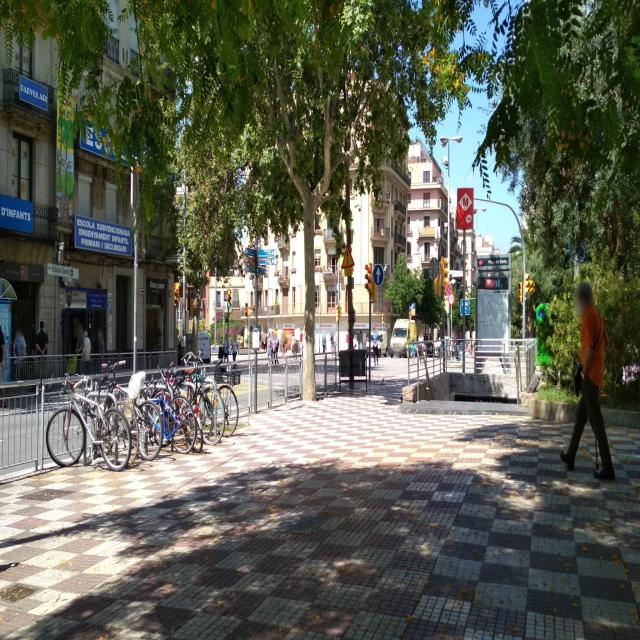bike: (144, 367, 206, 456), (46, 374, 100, 467), (93, 376, 133, 468), (185, 364, 229, 441), (204, 364, 240, 438)
car: (389, 321, 417, 358)
